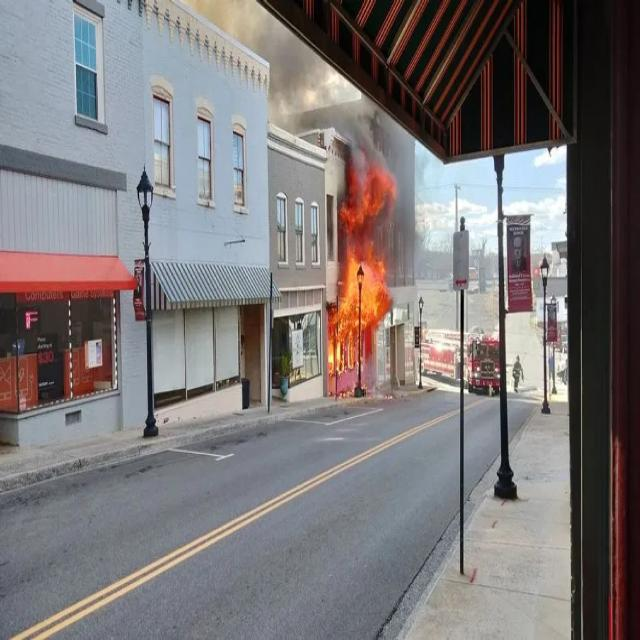Fire: (328, 165, 397, 377)
Smoke: (180, 0, 392, 179)
